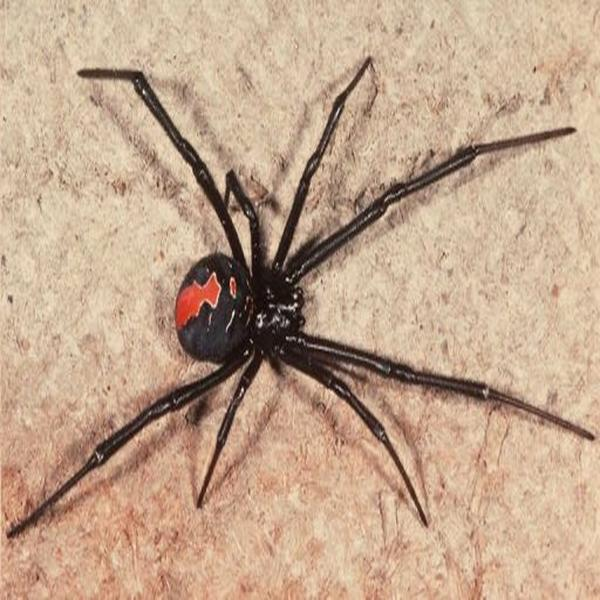Redback_Spider: (7, 56, 594, 542)
